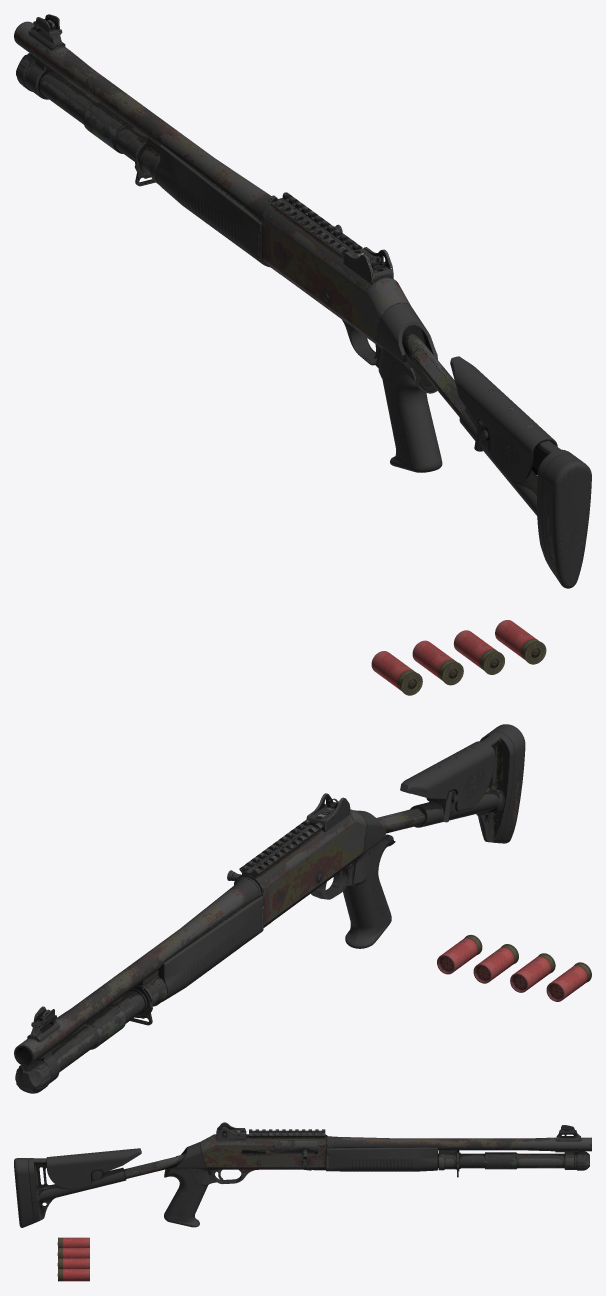
3 renders of one model, top to bottom at view 1: azimuth 30°, elevation 25°; view 2: azimuth 150°, elevation 25°; view 3: azimuth 270°, elevation 25°, orthographic. The views are drawn at different scales.
Visible parts, largest first — view 1: v_xm1014_R; view 2: v_xm1014_R; view 3: v_xm1014_R.
Part boxes in pixels (bbox=[...]): v_xm1014_R: bbox=[14, 14, 591, 695]; v_xm1014_R: bbox=[14, 724, 591, 1093]; v_xm1014_R: bbox=[14, 1122, 591, 1281].
Bounding box in the file's own units: 0.1634 × 0.2671 × 0.8976.
1 material, 1 textured.
